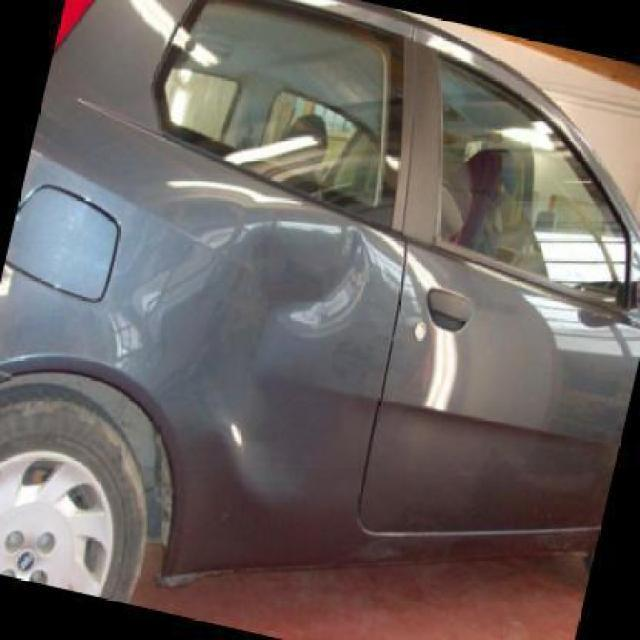dent: (215, 218, 369, 406)
